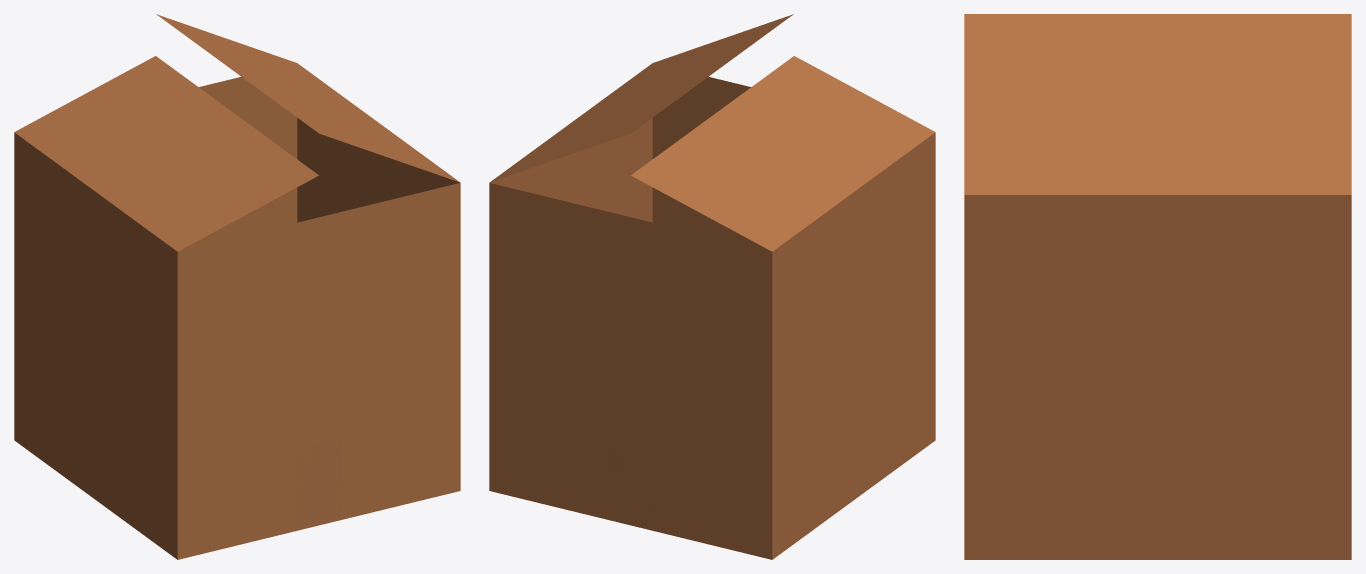
Rendered from Cardboard Box.fbx.
3 views of the same model, side by side, from view 1: azimuth 30°, elevation 25°; view 2: azimuth 150°, elevation 25°; view 3: azimuth 270°, elevation 25° (orthographic). The views are drawn at different scales.
Visible parts, largest first — view 1: mergedBlocks; view 2: mergedBlocks; view 3: mergedBlocks.
Part boxes in pixels (x1=…): mergedBlocks: x1=14, y1=14, x2=460, y2=559; mergedBlocks: x1=489, y1=14, x2=935, y2=559; mergedBlocks: x1=964, y1=14, x2=1351, y2=559.
Size of the model in its own units: 2.12 by 2.81 by 2.13.
